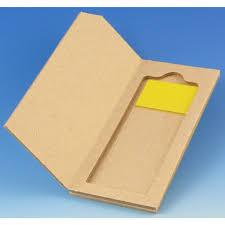Cardboard: (0, 7, 225, 220)
